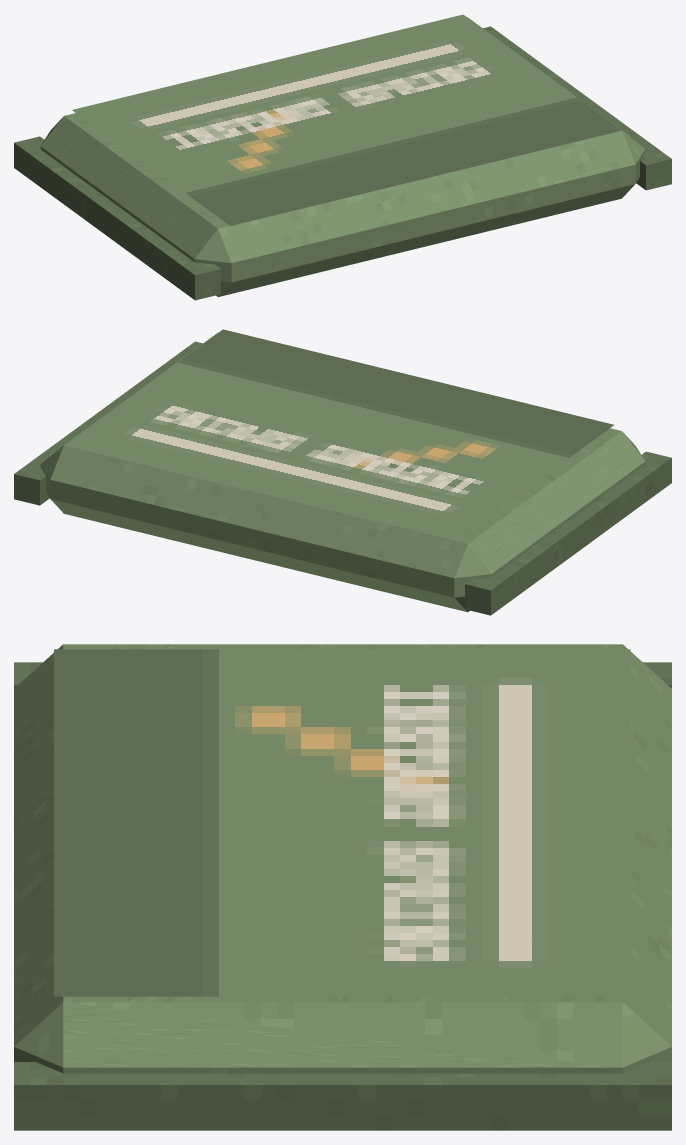
The model's file is soup_instant_vegetable_powder.glb.
3 renders of one model, top to bottom at view 1: azimuth 30°, elevation 25°; view 2: azimuth 150°, elevation 25°; view 3: azimuth 270°, elevation 25°, orthographic. The views are drawn at different scales.
Visible parts, largest first — view 1: block_printed sachet panel, block_filled laminated sachet, block_crimped closure (×2); view 2: block_printed sachet panel, block_filled laminated sachet, block_crimped closure (×2); view 3: block_printed sachet panel, block_filled laminated sachet, block_crimped closure (×2).
Part boxes in pixels (x1,y1,x2,y2): block_printed sachet panel: [72, 14, 621, 225]; block_filled laminated sachet: [40, 17, 645, 296]; block_crimped closure (×2): [14, 26, 671, 300]; block_printed sachet panel: [64, 329, 613, 540]; block_filled laminated sachet: [40, 333, 645, 612]; block_crimped closure (×2): [14, 341, 671, 615]; block_printed sachet panel: [54, 649, 630, 996]; block_filled laminated sachet: [14, 644, 671, 1073]; block_crimped closure (×2): [14, 662, 671, 1130].
Bounding box in the file's own units: 0.0449 × 0.00634 × 0.0296.
1 material, 1 textured.
